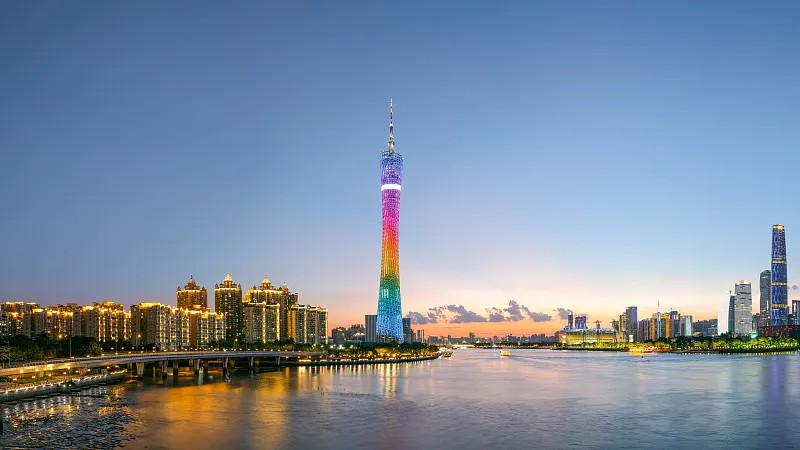Canton: (377, 96, 404, 339)
